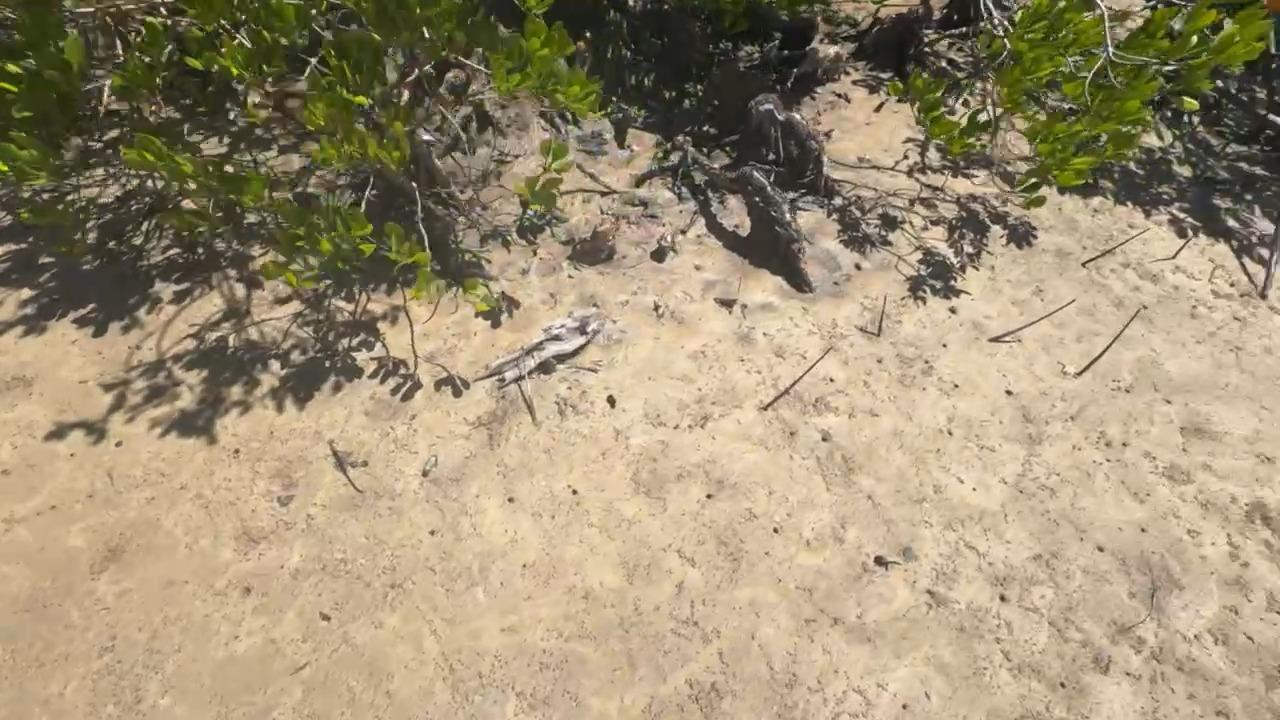Tree: (1077, 308, 1142, 378), (763, 347, 833, 410), (988, 298, 1077, 340), (1081, 227, 1152, 265), (1172, 231, 1201, 260), (330, 447, 356, 476), (878, 295, 888, 336)
